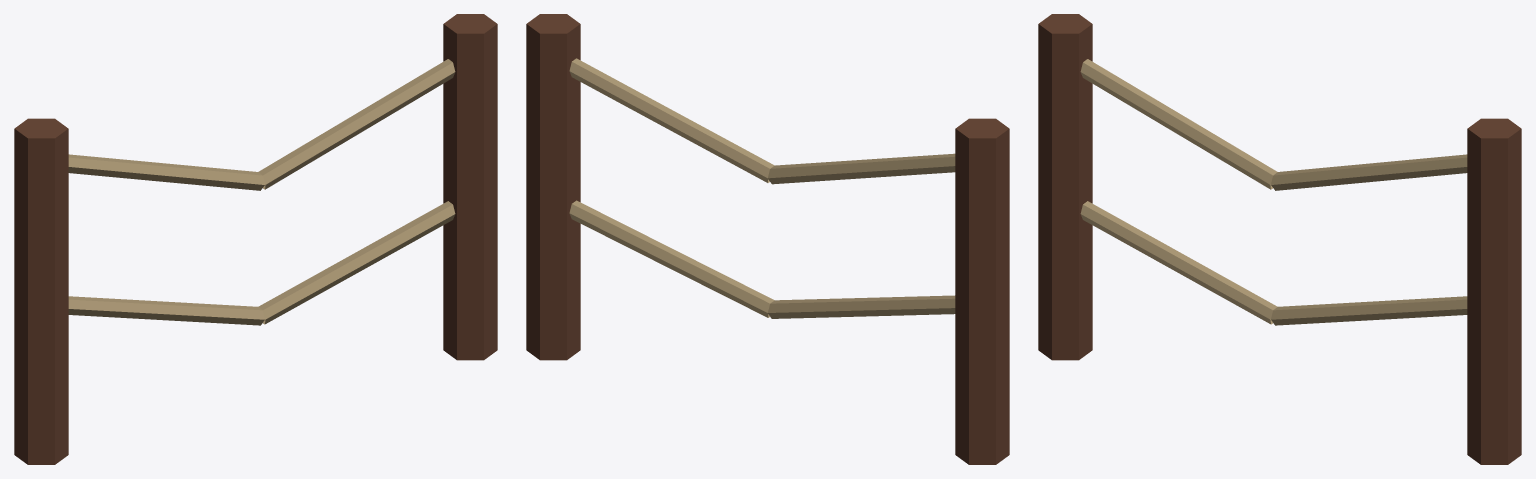
3 renders of one model, left to right at view 1: azimuth 30°, elevation 25°; view 2: azimuth 150°, elevation 25°; view 3: azimuth 330°, elevation 25°, orthographic.
Visible parts, largest first — view 1: H12_岸边绳栏; view 2: H12_岸边绳栏; view 3: H12_岸边绳栏.
Boxes of the visible parts, bbox=[...] form: H12_岸边绳栏: bbox=[14, 14, 497, 464]; H12_岸边绳栏: bbox=[526, 14, 1009, 464]; H12_岸边绳栏: bbox=[1038, 14, 1521, 464].
Size of the model in its own units: 1.2 by 0.8 by 0.12.
